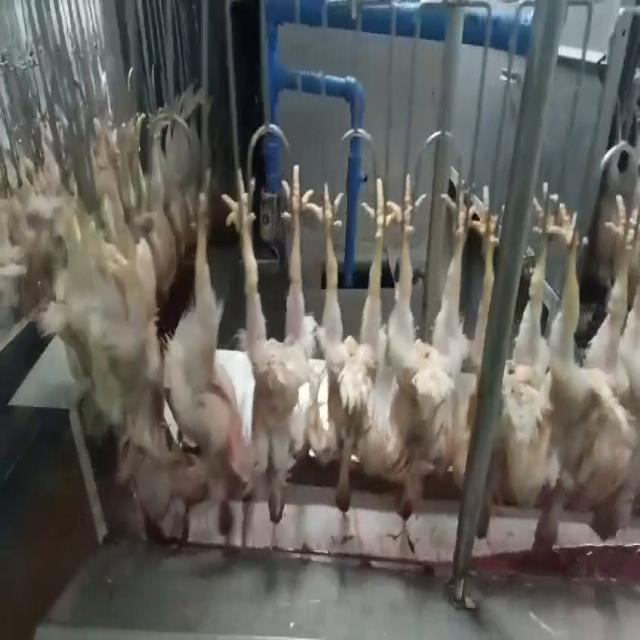chicken: (390, 176, 481, 524), (229, 164, 314, 527), (315, 169, 399, 517), (507, 194, 584, 566), (162, 171, 225, 518), (436, 169, 492, 495), (585, 195, 635, 547)
